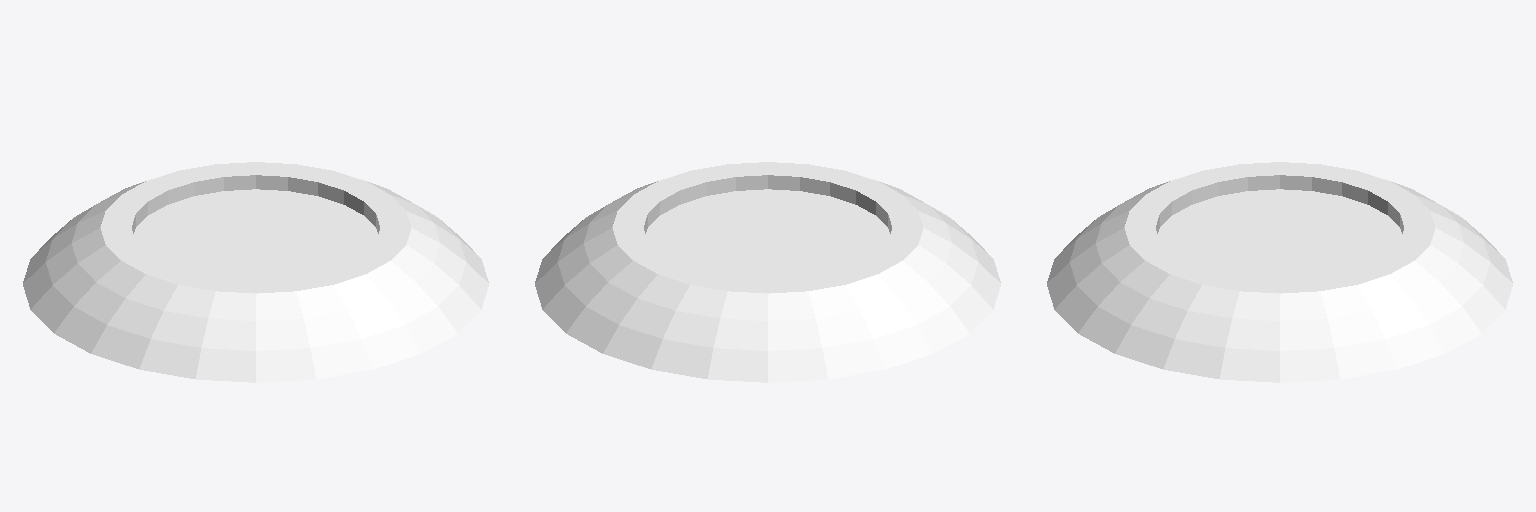
File: tucana_adapter_s1p5_s1_1.obj
3 renders of one model, left to right at view 1: azimuth 30°, elevation 25°; view 2: azimuth 150°, elevation 25°; view 3: azimuth 270°, elevation 25°, orthographic.
Visible parts, largest first — view 1: tucana_adapter_s1p5_s1_1; view 2: tucana_adapter_s1p5_s1_1; view 3: tucana_adapter_s1p5_s1_1.
Part boxes in pixels (x1,y1,x2,y2): tucana_adapter_s1p5_s1_1: (23, 162, 488, 382); tucana_adapter_s1p5_s1_1: (535, 162, 1000, 382); tucana_adapter_s1p5_s1_1: (1047, 162, 1512, 382).
Bounding box in the file's own units: 1.88 × 0.25 × 1.88.